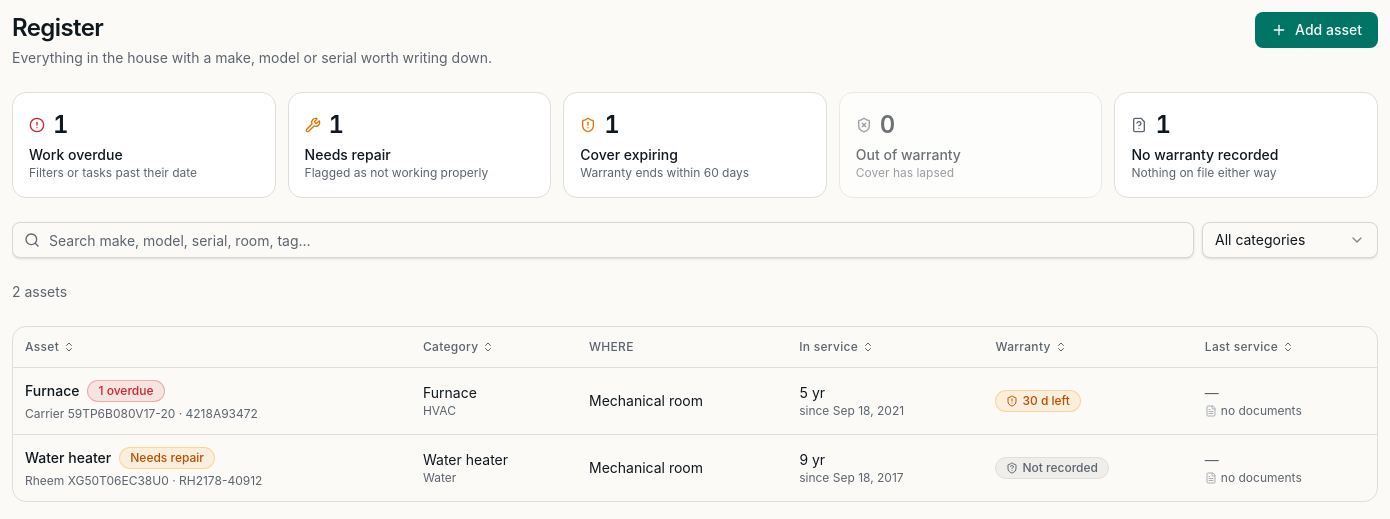
it: AssetsPage › filters when a tile is pressed, and clears when it is pressed again
The width and height of the screenshot is (1390, 519).
Expected: the link "Furnace" is shown, [25,380,80,400]
Click the button "1 Needs repair Flagged as not working properly".
click(348, 154)  # box [288,92,551,198]
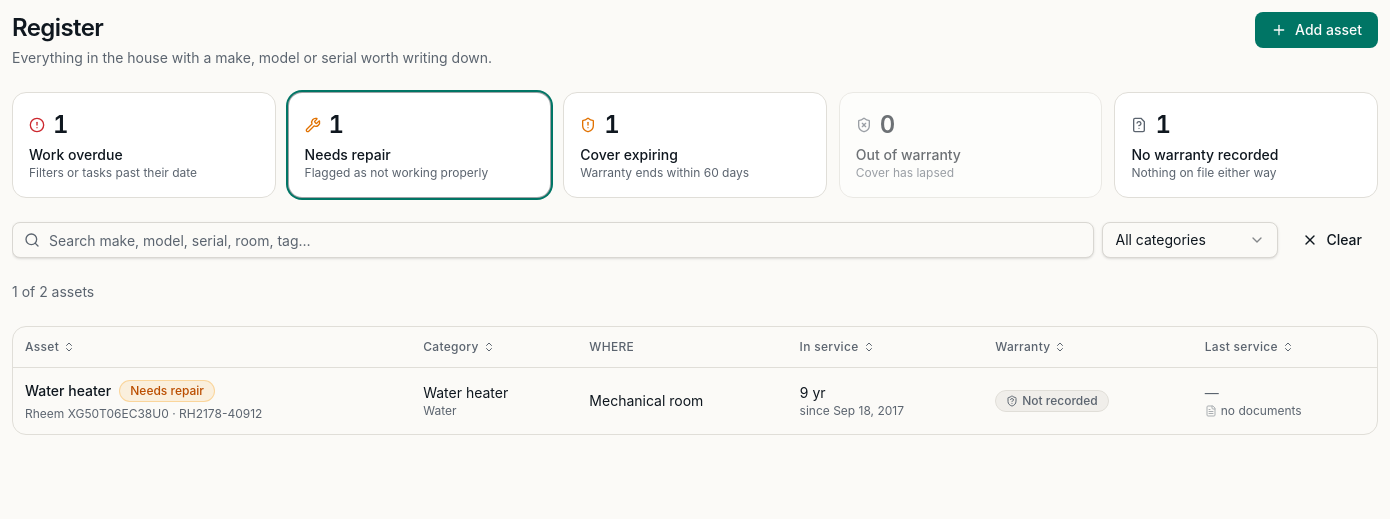
Expected: the link "Water heater" is shown, [25,380,111,400]
Now the link "Furnace" is gone
Click the button "1 Needs repair Flagged as not working properly".
click(348, 154)  # box [288,92,551,198]
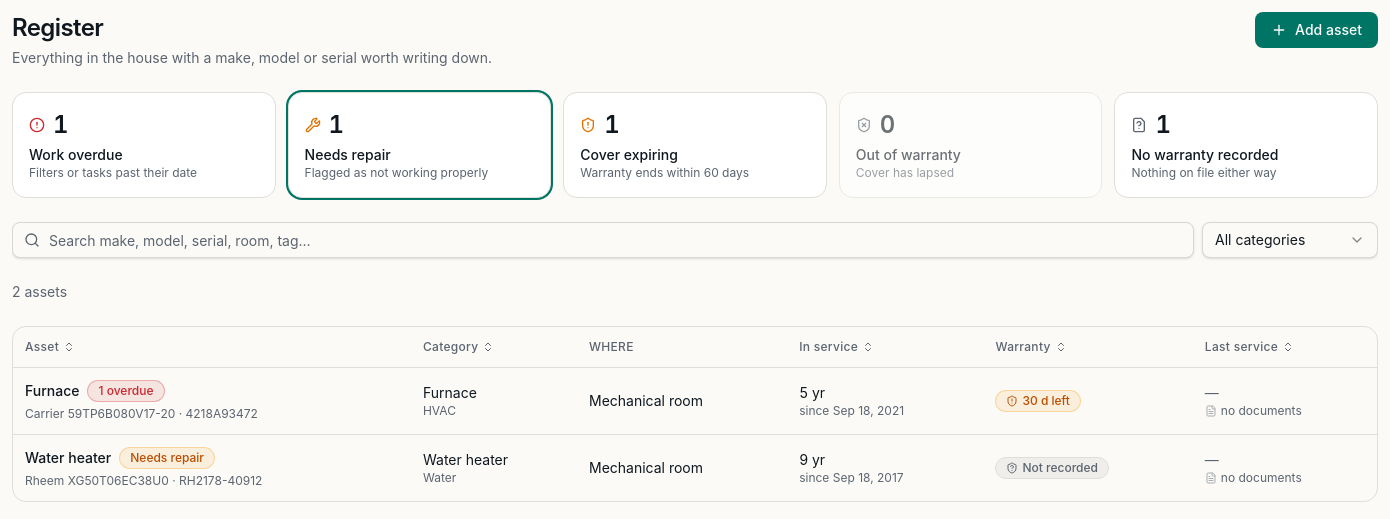
Now the link "Furnace" is shown, box [25,380,80,400]
